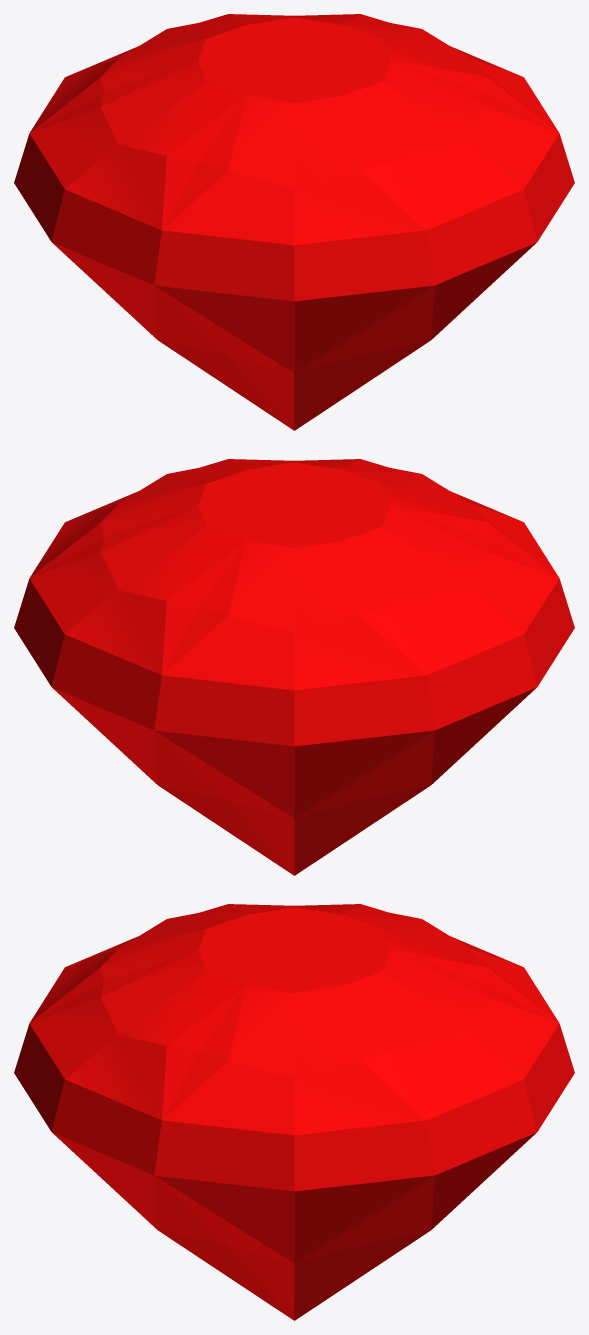
File: Jewel_Ani000.fbx
3 renders of one model, top to bottom at view 1: azimuth 30°, elevation 25°; view 2: azimuth 150°, elevation 25°; view 3: azimuth 270°, elevation 25°, orthographic.
Parts seen in each view (by area): view 1: jewel; view 2: jewel; view 3: jewel.
Part boxes in pixels (x1,y1,x2,y2): jewel: (14,14,574,430); jewel: (14,459,574,875); jewel: (14,904,574,1320).
Size of the model in its own units: 7.26 by 5.29 by 7.26.
1 material, 1 textured.
